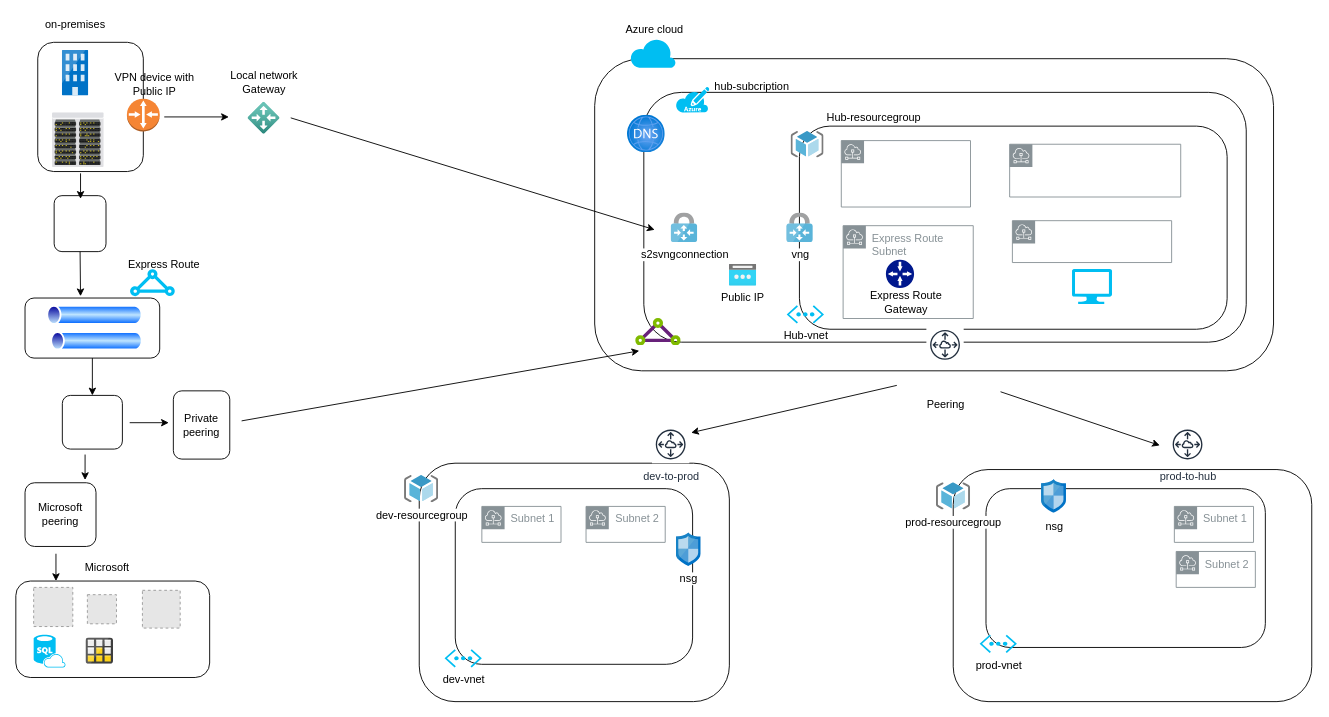
This 1329x717 diagram has some shape labels left out. Grey dashed boxes stand in for pictures. Here are the shapes that lost their labels. From the top down, the centre of each, then its label:
At point 905,173: "Gateway Subnet".
At point 1095,170: "Subnet resources".
At point 79,223: "Partner Edge".
At point 1091,241: "AzureBastionSubnet".
At point 1092,285: "azurebastion".
At point 658,331: "Express route circuit".
At point 944,344: "hub-to-dev hub-to-prod".
At point 91,421: "Microsoft edge".
